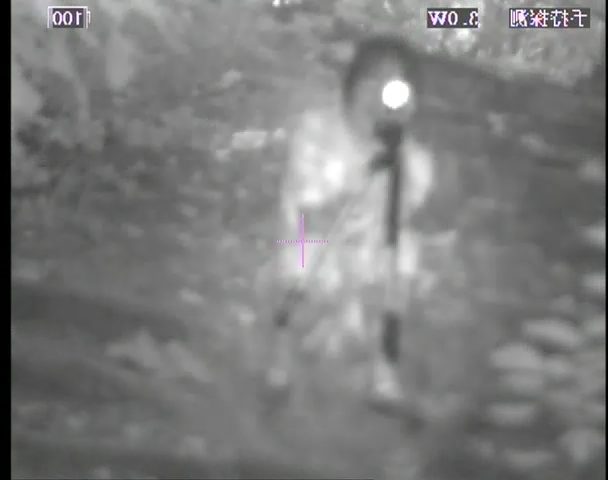my: (381, 79, 411, 108)
